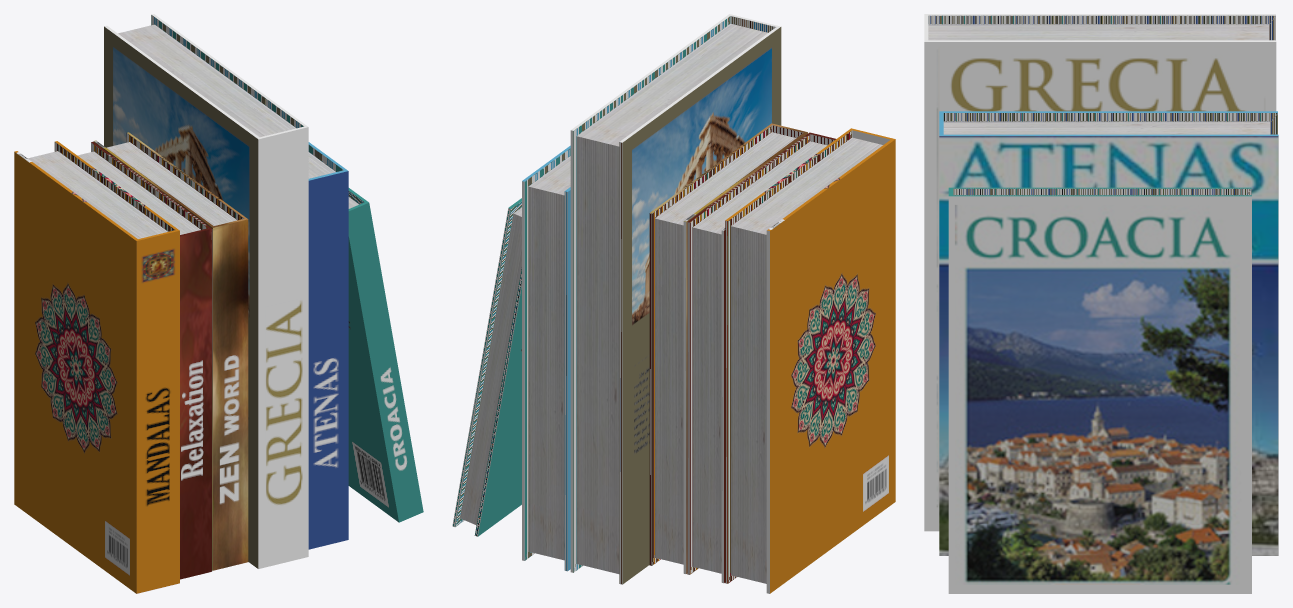
Rendered from Books 4.FBX.
The picture shows the model from 3 angles, left to right: view 1: azimuth 30°, elevation 25°; view 2: azimuth 150°, elevation 25°; view 3: azimuth 270°, elevation 25°; orthographic projection. The views are drawn at different scales.
Visible parts, largest first — view 1: Books 4; view 2: Books 4; view 3: Books 4.
Part boxes in pixels (box(x1,y1,x2,y2)): Books 4: box(14, 14, 423, 593); Books 4: box(452, 14, 895, 593); Books 4: box(924, 14, 1278, 593).
Size of the model in its own units: 20.39 by 28.65 by 18.78.
2 materials, 2 textured.
